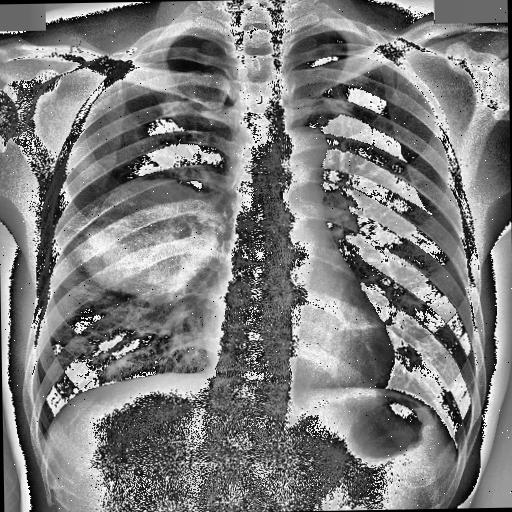7- Lung Opacity: (78, 180, 222, 304)
8- Nodule-Mass: (72, 176, 228, 308), (78, 178, 226, 303), (78, 180, 222, 304)
